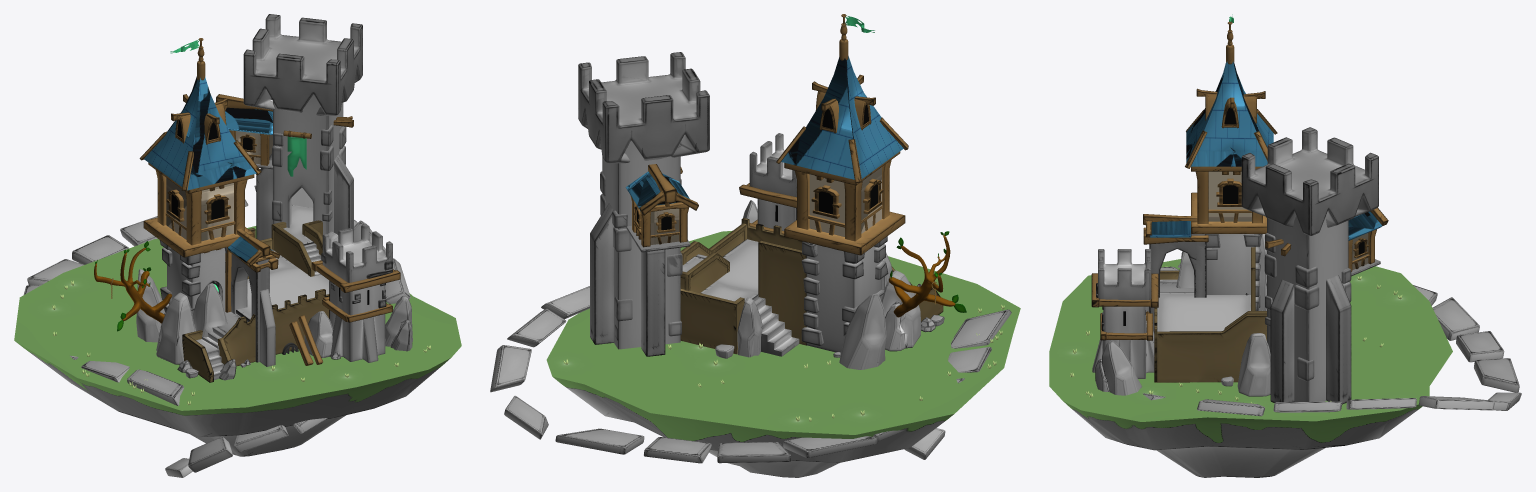
Rendered from upside down castle.fbx.
3 views of the same model, side by side, from view 1: azimuth 30°, elevation 25°; view 2: azimuth 150°, elevation 25°; view 3: azimuth 270°, elevation 25° (orthographic). The views are drawn at different scales.
Visible parts, largest first — view 1: floor, Stone_2, stone_1, Wood, misc, Stone_3, floating_stones, Stone_4, tree; view 2: floor, Stone_2, stone_1, floating_stones, Wood, misc, Stone_4, Stone_3, tree; view 3: floor, Stone_2, stone_1, Wood, Stone_3, misc, floating_stones, Stone_4.
Boxes of the visible parts, bbox=[...] form: floor: bbox=[14, 226, 461, 456]; Stone_2: bbox=[159, 14, 392, 362]; stone_1: bbox=[167, 94, 392, 380]; Wood: bbox=[139, 38, 400, 365]; misc: bbox=[144, 39, 369, 357]; Stone_3: bbox=[136, 204, 412, 380]; floating_stones: bbox=[23, 185, 410, 477]; Stone_4: bbox=[182, 220, 329, 382]; tree: bbox=[94, 241, 172, 331]; floor: bbox=[546, 230, 1020, 477]; Stone_2: bbox=[578, 52, 888, 356]; stone_1: bbox=[602, 133, 915, 356]; floating_stones: bbox=[490, 286, 1011, 463]; Wood: bbox=[630, 14, 908, 255]; misc: bbox=[625, 15, 903, 244]; Stone_4: bbox=[680, 218, 943, 354]; Stone_3: bbox=[682, 200, 944, 369]; tree: bbox=[889, 231, 966, 317]; floor: bbox=[1049, 259, 1452, 477]; Stone_2: bbox=[1096, 127, 1380, 404]; stone_1: bbox=[1092, 216, 1348, 401]; Wood: bbox=[1091, 21, 1388, 340]; Stone_3: bbox=[1095, 234, 1270, 396]; misc: bbox=[1123, 14, 1382, 355]; floating_stones: bbox=[1143, 263, 1521, 416]; Stone_4: bbox=[1154, 247, 1266, 382].
Bounding box in the file's own units: 3472 × 3751 × 3892.
Materials: 18 (16 with a texture image).
